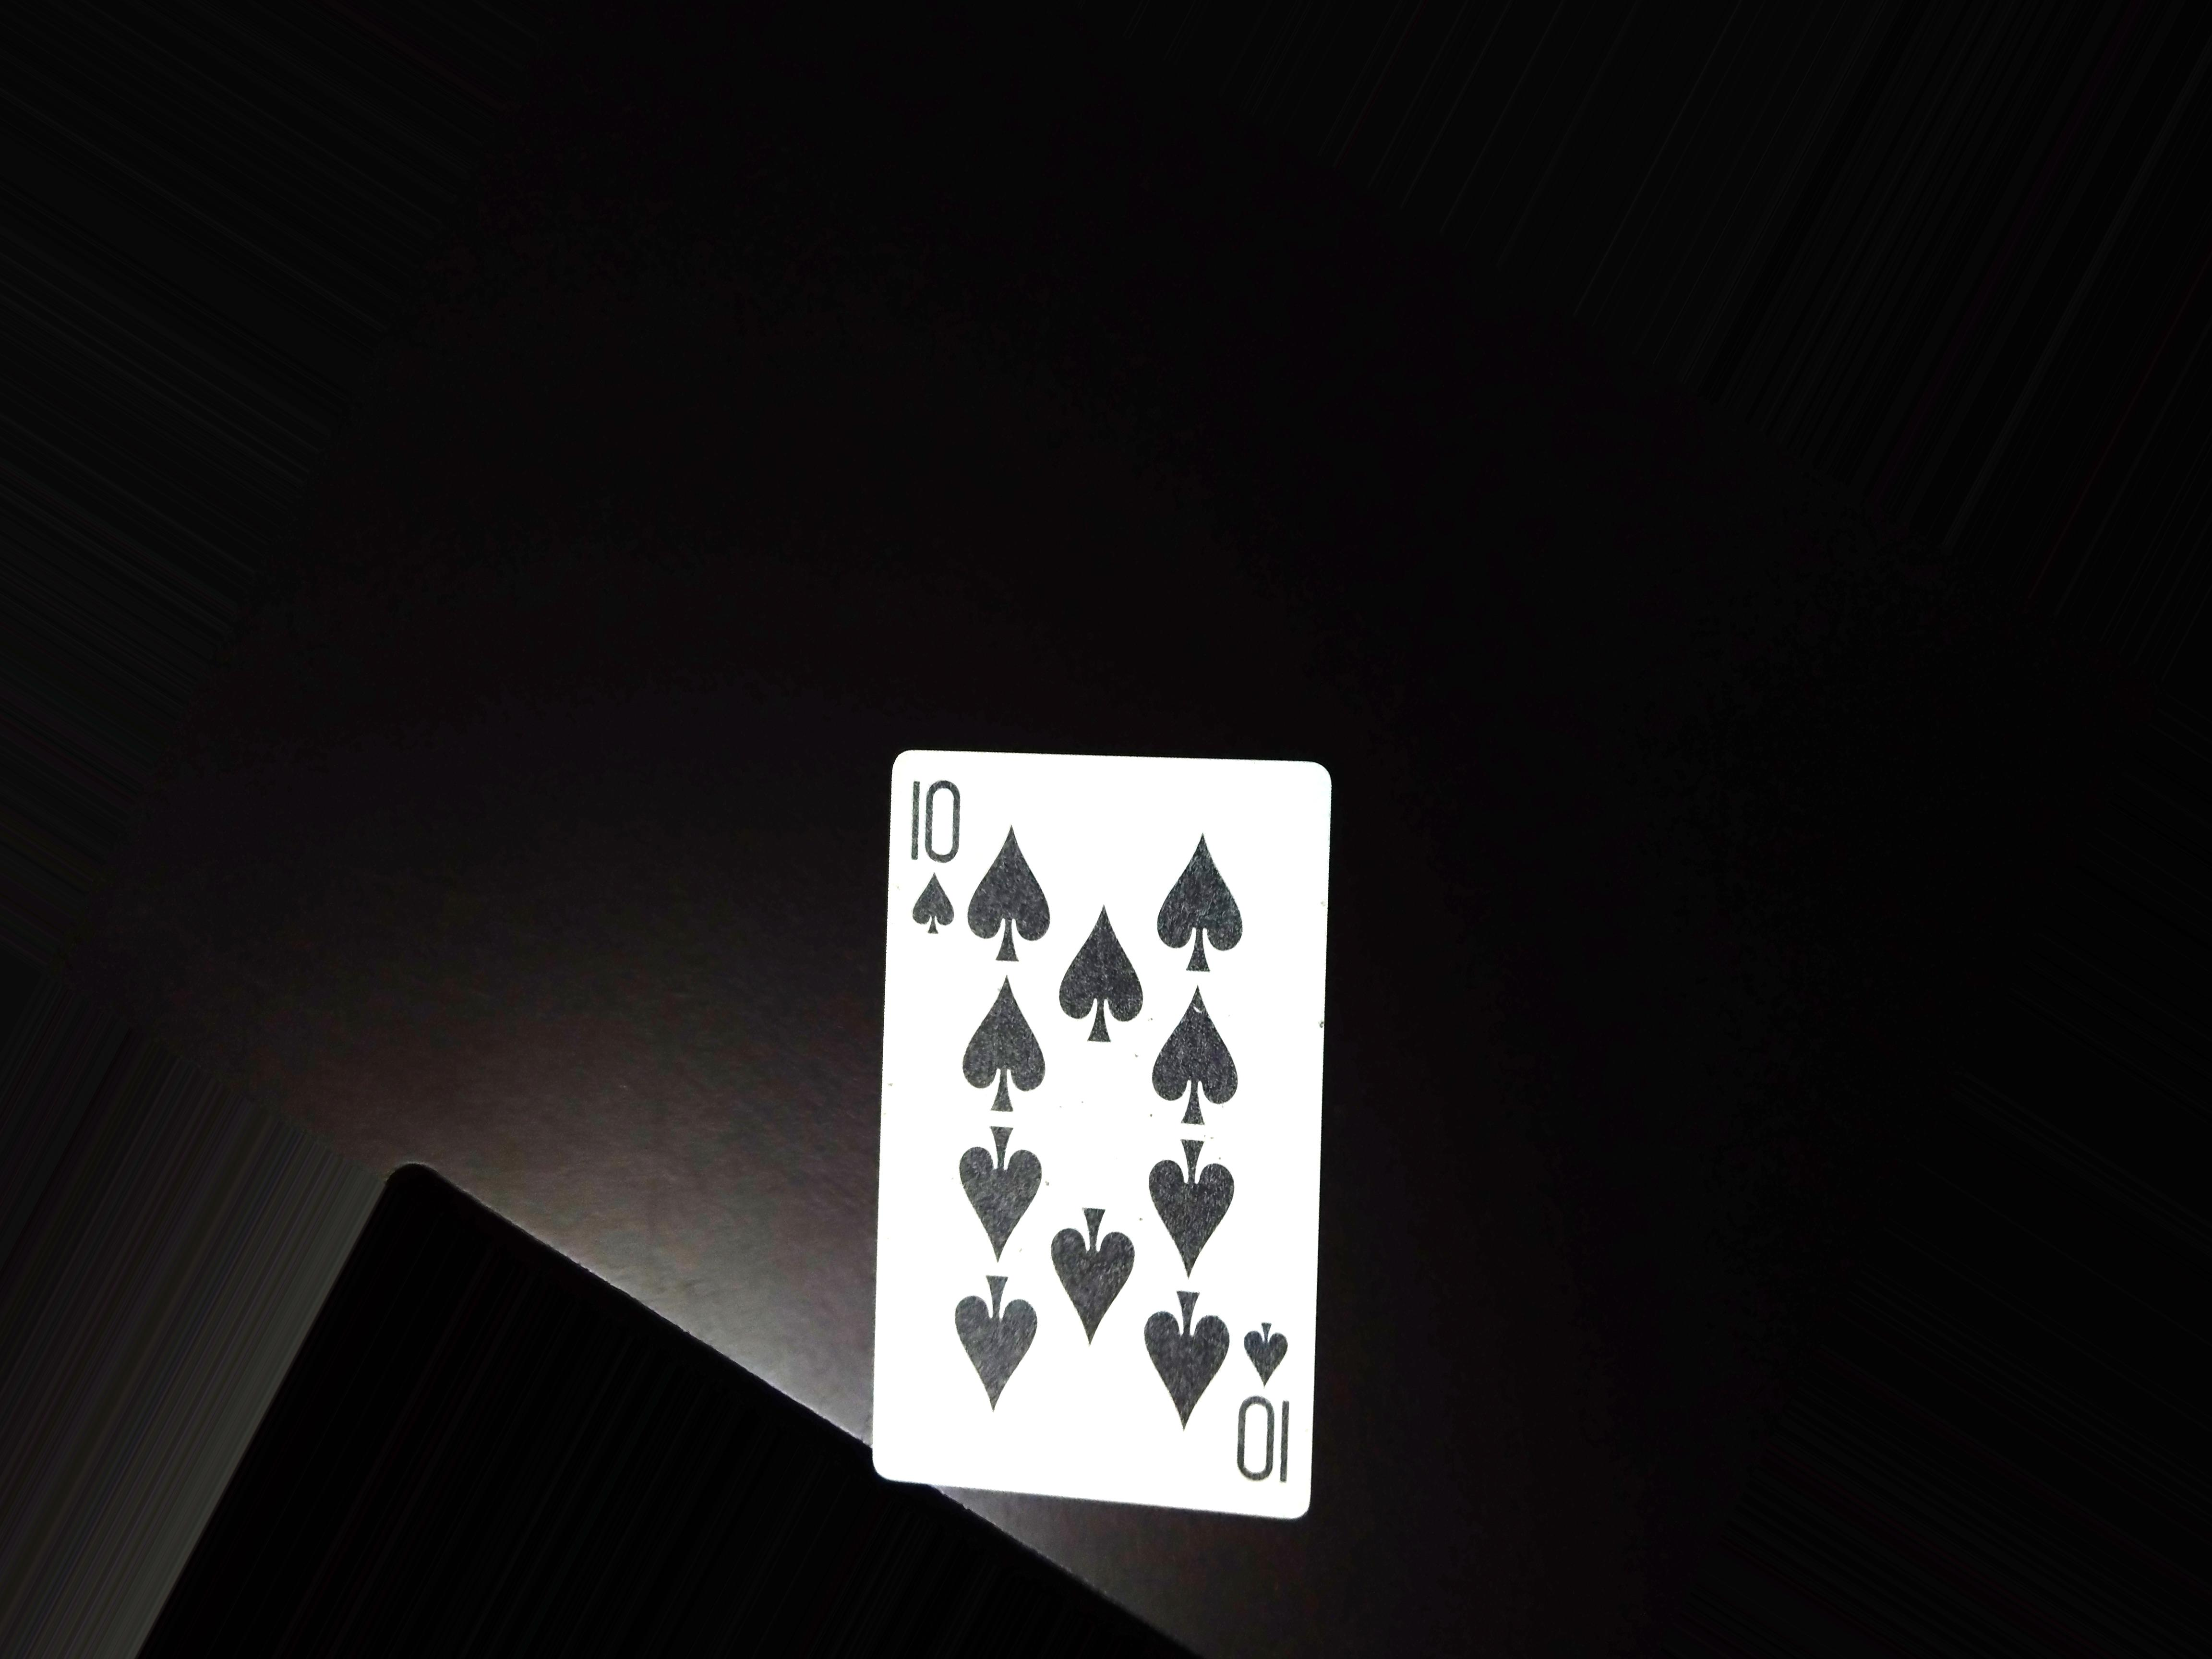10S: (902, 762, 982, 946)
